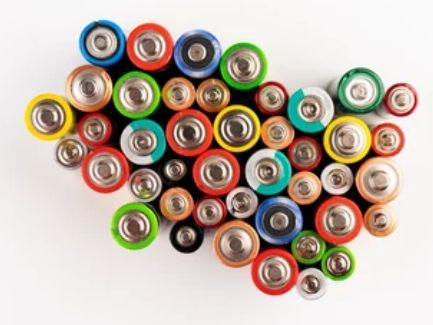battery: (251, 246, 301, 297), (77, 16, 126, 66), (107, 202, 159, 249), (212, 219, 261, 268), (335, 66, 384, 114), (112, 70, 161, 118), (193, 148, 241, 197), (316, 195, 364, 243), (221, 40, 268, 89), (214, 104, 261, 152), (82, 145, 129, 193), (256, 197, 303, 245), (120, 118, 169, 164), (165, 110, 214, 156), (66, 65, 113, 112), (127, 22, 173, 70), (325, 115, 373, 161), (175, 28, 220, 77), (247, 149, 293, 196), (357, 157, 405, 202), (27, 91, 72, 139), (289, 85, 334, 130), (365, 202, 402, 238), (78, 112, 113, 148), (292, 228, 327, 264), (324, 244, 359, 280), (161, 75, 198, 109), (169, 219, 204, 254), (129, 167, 165, 201), (385, 81, 418, 116), (255, 79, 288, 112), (161, 187, 194, 220), (291, 171, 322, 205), (374, 121, 406, 153), (292, 136, 324, 168), (226, 187, 258, 218), (194, 196, 226, 227), (296, 267, 325, 300), (55, 138, 85, 169), (264, 115, 293, 147), (323, 164, 354, 193), (201, 80, 228, 109), (165, 158, 189, 181)
